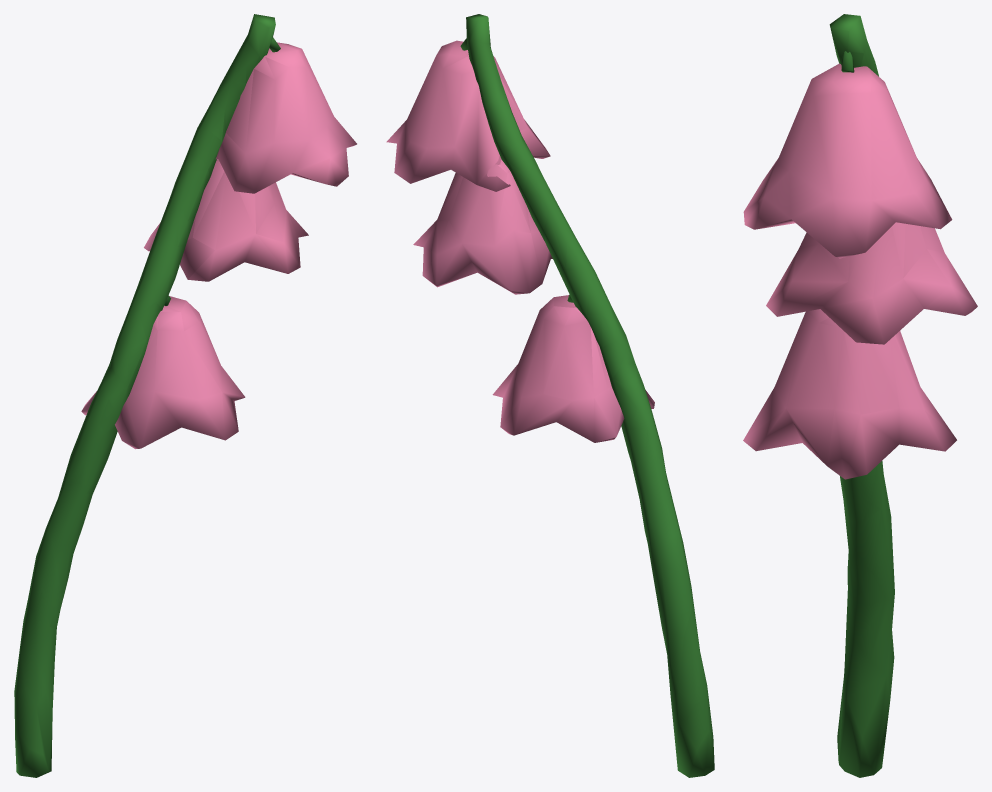
File: glade_flower_bell_lod2.glb
3 renders of one model, left to right at view 1: azimuth 30°, elevation 25°; view 2: azimuth 150°, elevation 25°; view 3: azimuth 270°, elevation 25°, orthographic. The views are drawn at different scales.
Parts seen in each view (by area): view 1: glade_flower_bell.001; view 2: glade_flower_bell.001; view 3: glade_flower_bell.001.
Boxes of the visible parts, x1=… form: glade_flower_bell.001: x1=14, y1=14, x2=356, y2=777; glade_flower_bell.001: x1=386, y1=14, x2=714, y2=777; glade_flower_bell.001: x1=743, y1=14, x2=977, y2=777.
Bounding box in the file's own units: 7.83 × 15.99 × 3.83.
